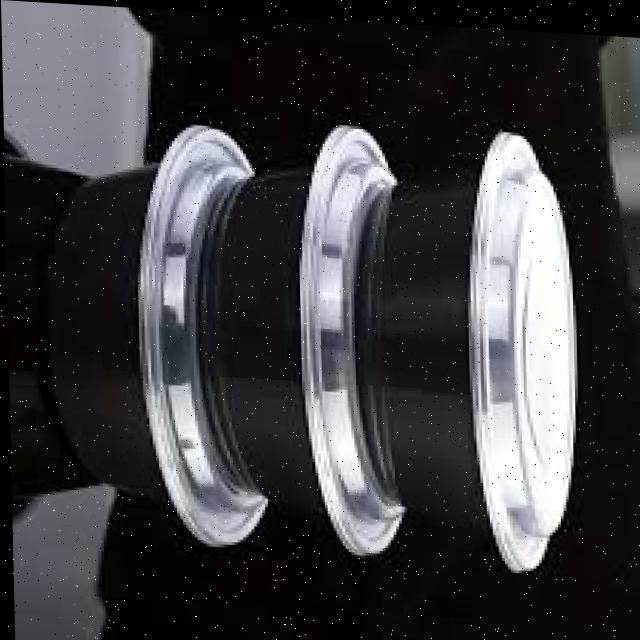disposable: (330, 108, 610, 595), (201, 117, 399, 568), (54, 122, 259, 555)
